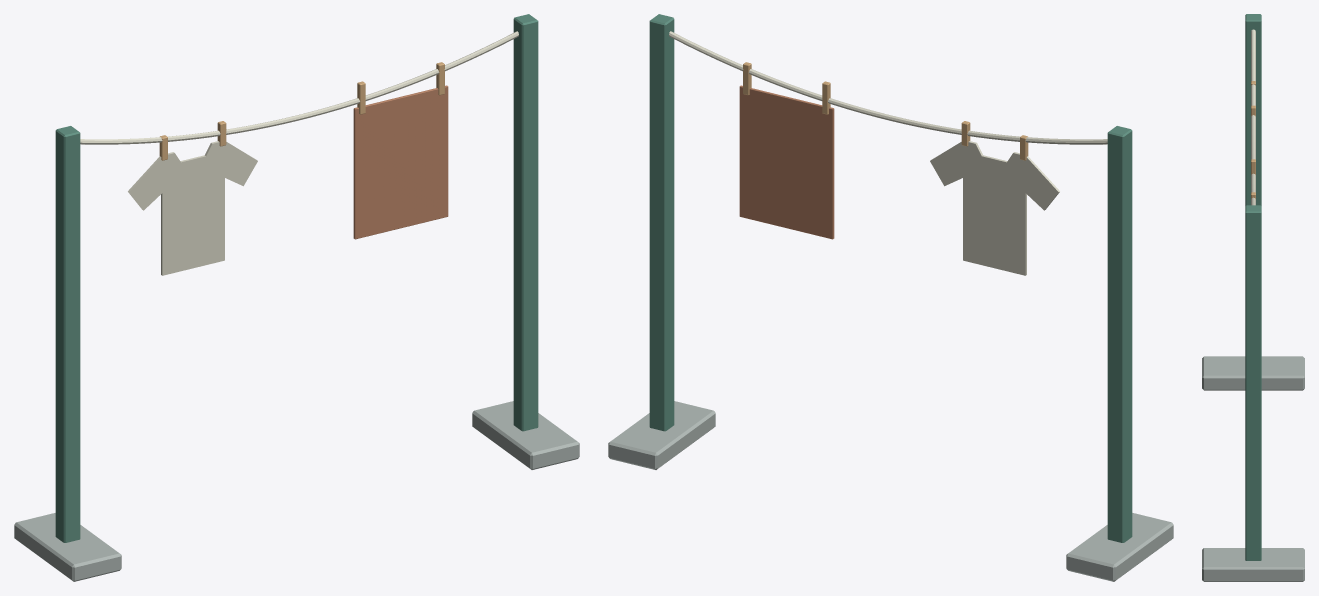
3 renders of one model, left to right at view 1: azimuth 30°, elevation 25°; view 2: azimuth 150°, elevation 25°; view 3: azimuth 270°, elevation 25°, orthographic. The views are drawn at different scales.
Visible parts, largest first — view 1: laundry-clothesline-01; view 2: laundry-clothesline-01; view 3: laundry-clothesline-01.
Boxes of the visible parts, x1,y1,x2,y2 form: laundry-clothesline-01: (14, 14, 579, 581); laundry-clothesline-01: (608, 14, 1173, 581); laundry-clothesline-01: (1202, 14, 1304, 581).
Bounding box in the file's own units: 2.44 × 1.95 × 0.5.
